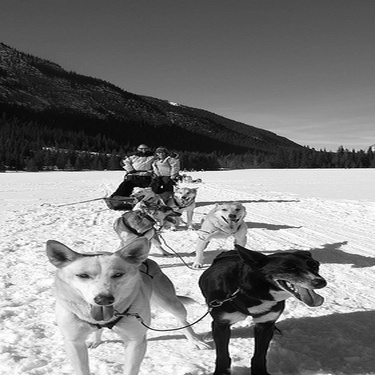dog: (38, 235, 213, 373), (194, 239, 332, 371), (100, 197, 180, 263), (189, 200, 248, 269), (160, 183, 198, 229), (128, 182, 164, 214)
